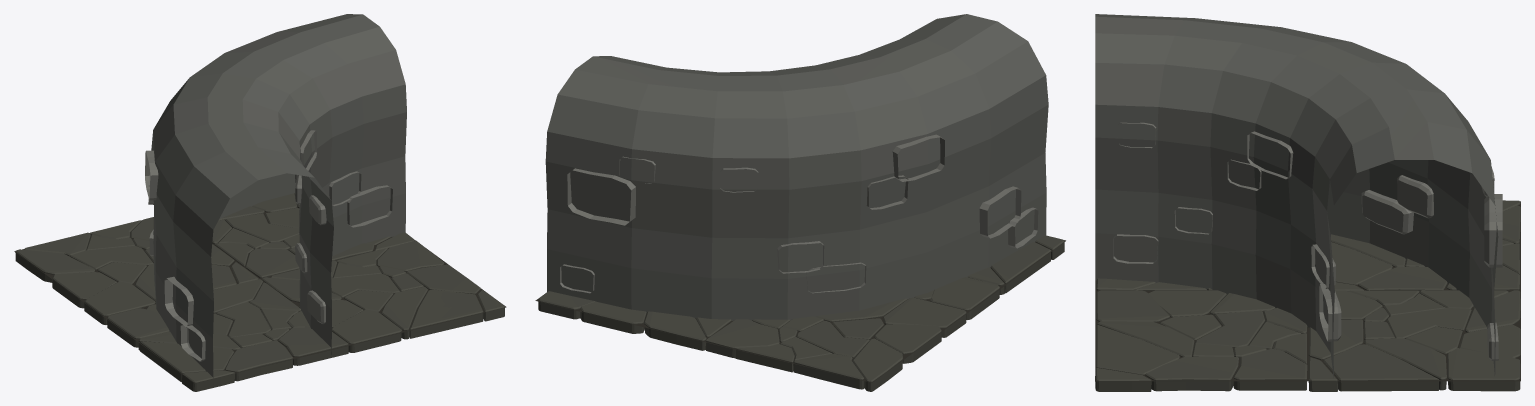
The model's file is Hallway_Curve_Long.glb.
The picture shows the model from 3 angles, left to right: view 1: azimuth 30°, elevation 25°; view 2: azimuth 150°, elevation 25°; view 3: azimuth 270°, elevation 25°; orthographic projection. The views are drawn at different scales.
Visible parts, largest first — view 1: Hallway_Curve_Long; view 2: Hallway_Curve_Long; view 3: Hallway_Curve_Long.
Boxes of the visible parts, <box> form: Hallway_Curve_Long: <box>14,14,506,391</box>; Hallway_Curve_Long: <box>535,14,1065,391</box>; Hallway_Curve_Long: <box>1095,14,1520,391</box>.
Bounding box in the file's own units: 4.01 × 2.42 × 4.
Materials: 2 (2 with a texture image).
